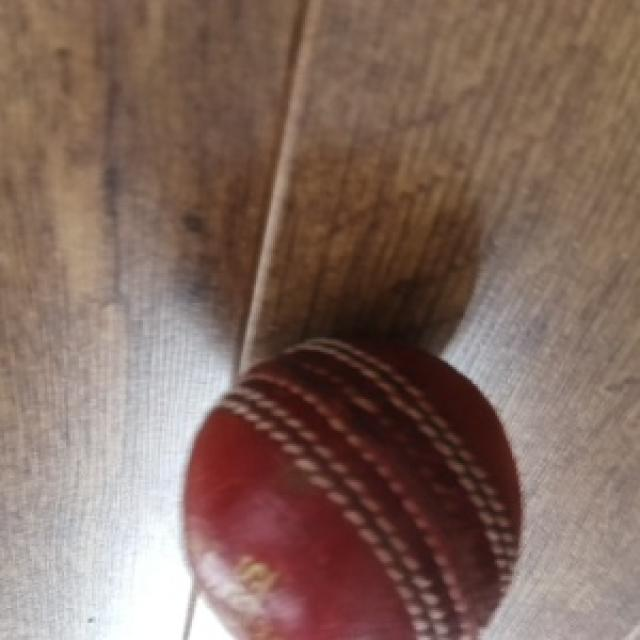ball: (181, 339, 525, 640)
